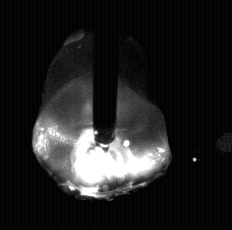arame: (94, 0, 117, 142)
poca: (31, 0, 169, 230)
